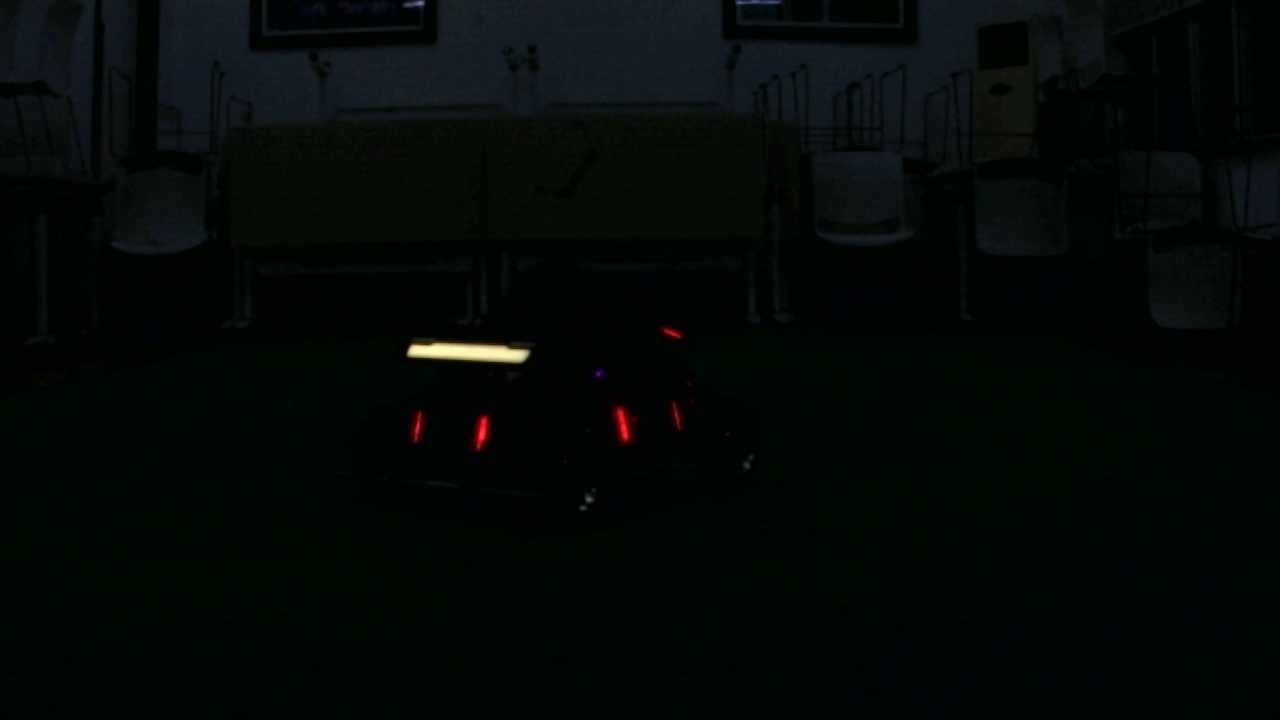lamp: (609, 404, 631, 442), (475, 416, 489, 453)
pair1: (406, 405, 492, 447), (411, 411, 425, 449)
